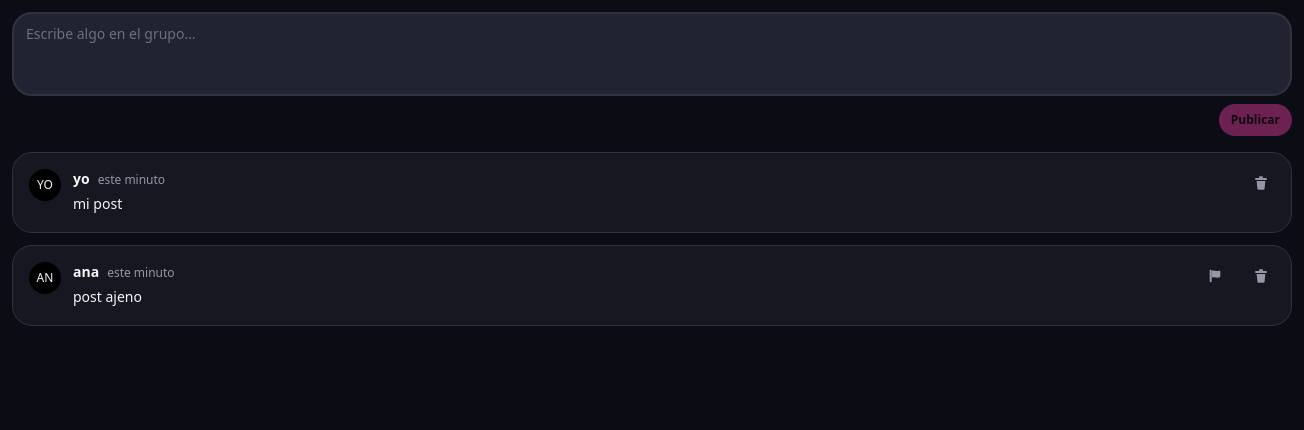
Test: GroupFeed › el dueño borra un post ajeno tras confirmar
Expected: the text "post ajeno" is shown, [73,287,142,306]
Click the button named "Borrar la publicación de ana".
click(1261, 276)  # box [1239,254,1283,298]
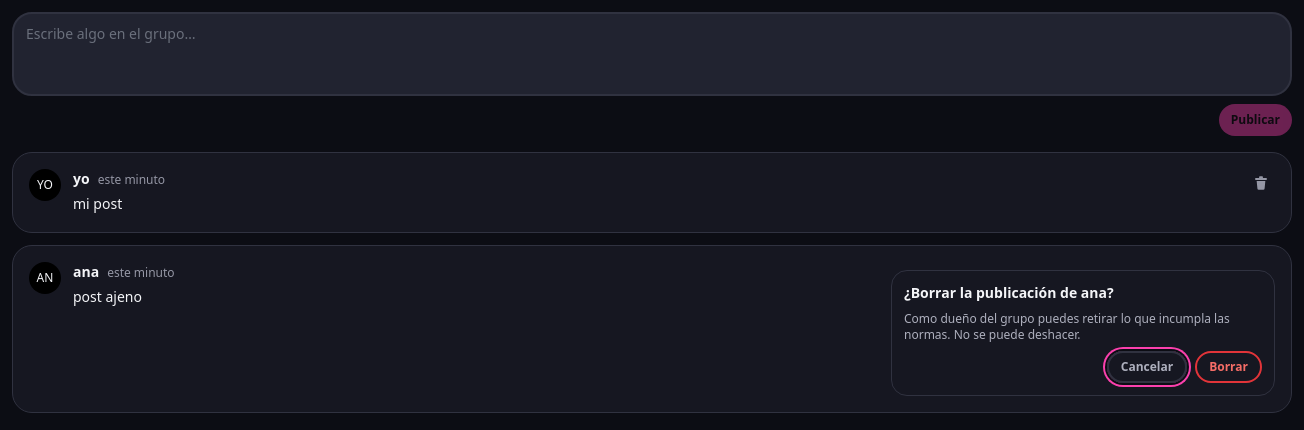
Click the button "Borrar".
click(1229, 367)  # box [1195,351,1262,383]
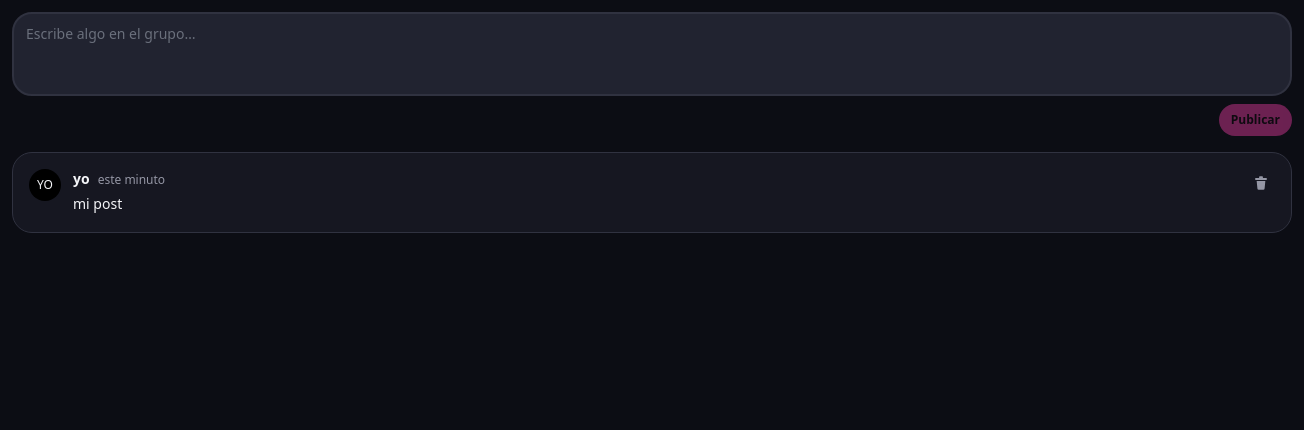
Result: the text "post ajeno" is gone
